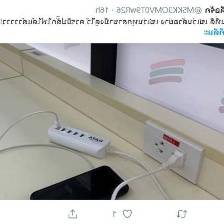three_eye_plug: (140, 114, 209, 185), (45, 120, 113, 161)
